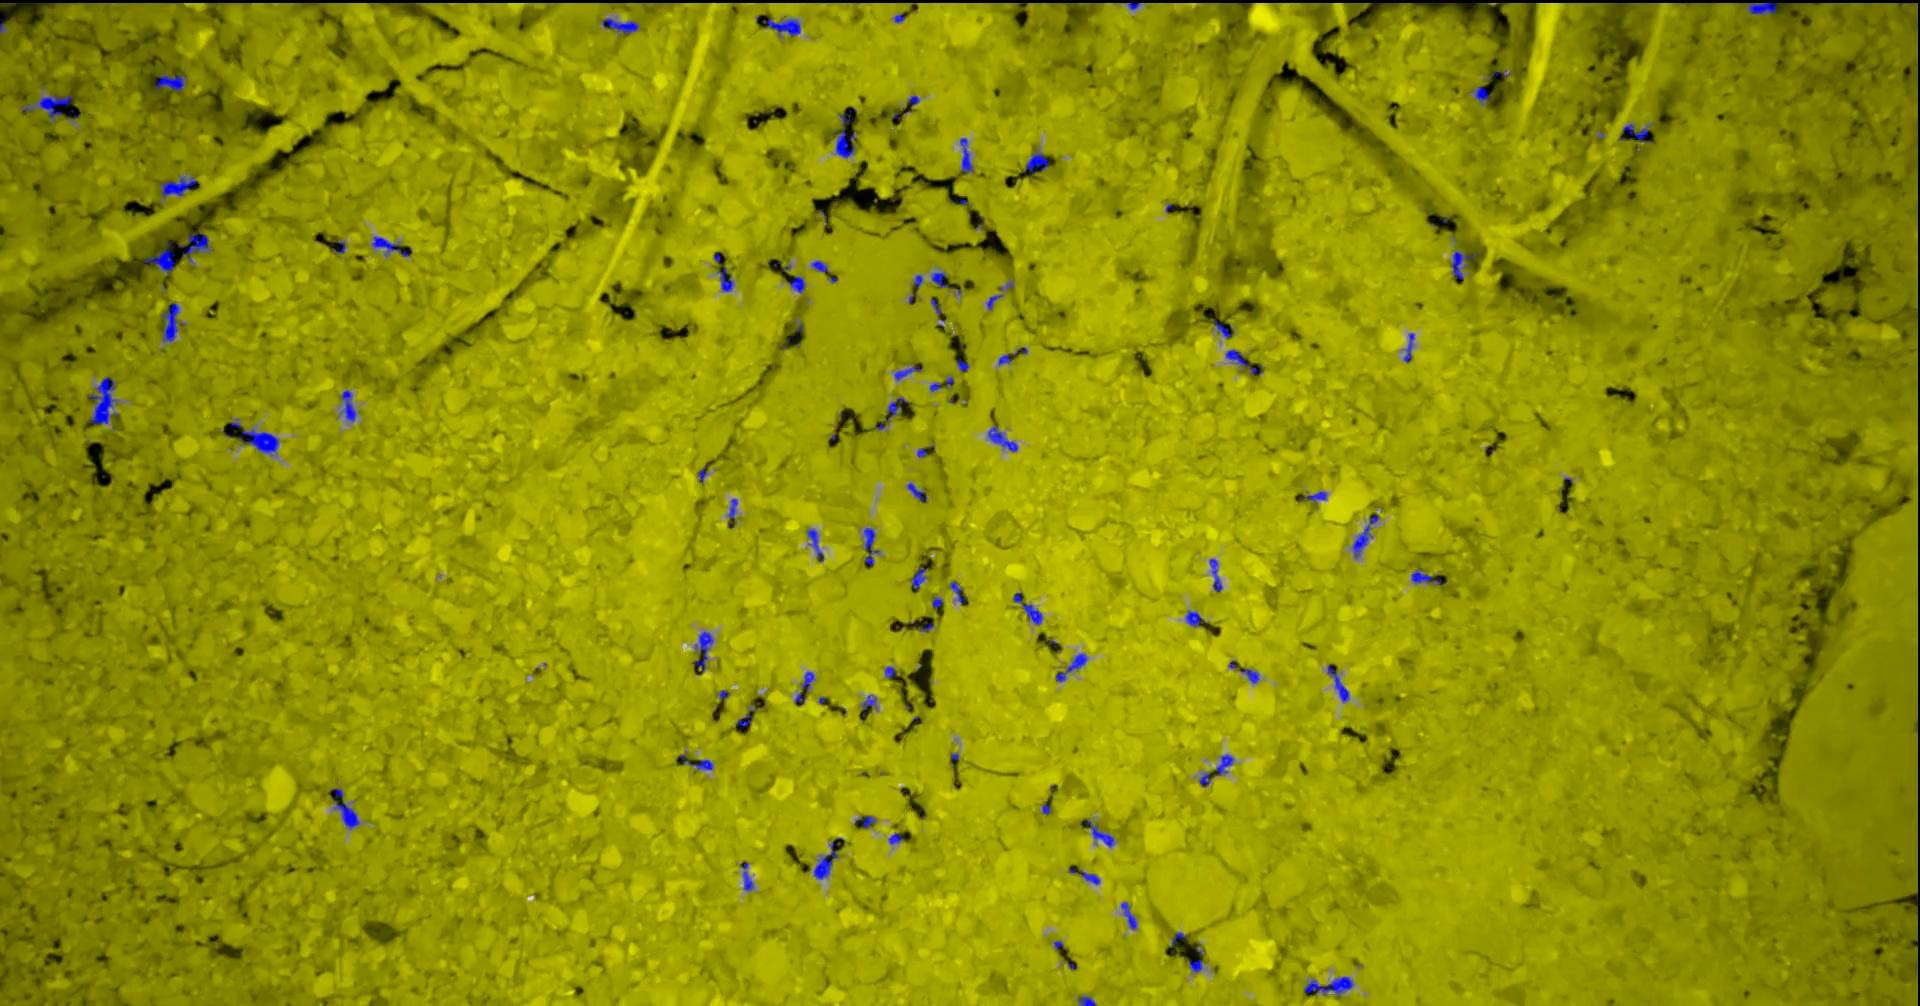ant: (89, 376, 119, 423), (23, 94, 75, 119), (1354, 514, 1380, 558), (145, 241, 177, 276), (179, 231, 215, 262), (1305, 976, 1355, 997), (240, 428, 279, 455), (163, 302, 187, 342), (1015, 592, 1044, 624), (1057, 653, 1090, 681), (815, 841, 839, 879), (1227, 349, 1263, 373), (1451, 250, 1478, 279), (989, 424, 1018, 451), (1330, 663, 1350, 701), (697, 631, 715, 674), (163, 177, 199, 197), (373, 236, 410, 257), (988, 281, 1015, 309), (1088, 819, 1116, 846), (766, 17, 803, 36), (1023, 150, 1050, 175), (833, 130, 857, 158), (337, 801, 361, 829), (865, 527, 881, 565), (1413, 567, 1448, 584), (603, 17, 640, 33), (156, 72, 188, 91), (1622, 123, 1653, 142), (808, 528, 825, 561), (886, 396, 909, 420), (1742, 0, 1780, 14), (342, 390, 358, 420), (1070, 868, 1101, 884), (1001, 347, 1029, 365), (719, 263, 735, 291), (681, 754, 714, 768), (897, 363, 923, 380), (1190, 945, 1206, 972), (961, 137, 974, 171), (1123, 901, 1138, 929), (1211, 558, 1224, 591), (932, 297, 946, 326), (742, 861, 756, 890), (951, 580, 968, 605), (1217, 754, 1236, 775), (1215, 319, 1234, 338), (909, 481, 928, 500), (913, 567, 928, 589), (739, 708, 757, 727), (1187, 610, 1208, 626), (1404, 333, 1416, 362), (729, 498, 739, 527), (789, 276, 806, 292), (1242, 667, 1260, 683), (856, 815, 877, 828), (803, 671, 817, 690), (1476, 85, 1491, 102), (933, 271, 949, 287), (863, 694, 877, 711), (1201, 772, 1217, 786), (813, 260, 830, 272), (1305, 492, 1328, 500), (1079, 995, 1097, 1005), (890, 832, 905, 843), (957, 358, 970, 371), (331, 788, 345, 799), (886, 666, 897, 678)
